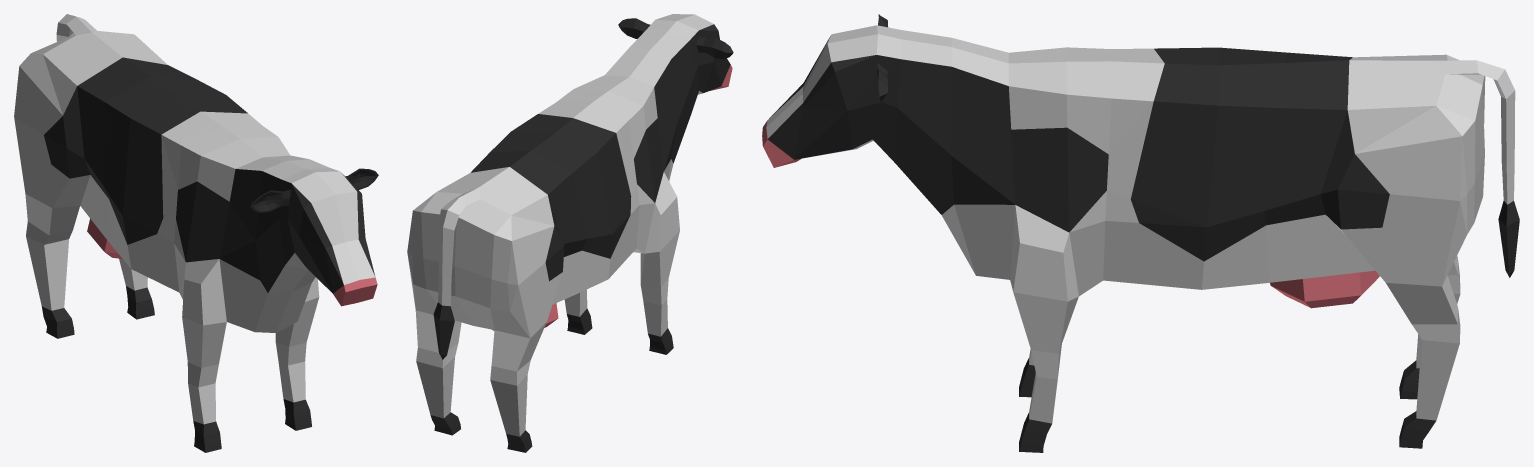
File: Cow.glb
3 views of the same model, side by side, from view 1: azimuth 30°, elevation 25°; view 2: azimuth 150°, elevation 25°; view 3: azimuth 270°, elevation 25° (orthographic). The views are drawn at different scales.
Visible parts, largest first — view 1: Cow_Cylinder; view 2: Cow_Cylinder; view 3: Cow_Cylinder.
Part boxes in pixels (x1=…): Cow_Cylinder: x1=14, y1=14, x2=378, y2=452; Cow_Cylinder: x1=407, y1=14, x2=733, y2=452; Cow_Cylinder: x1=762, y1=14, x2=1519, y2=452.
Size of the model in its own units: 2.27 by 5.15 by 9.17.
